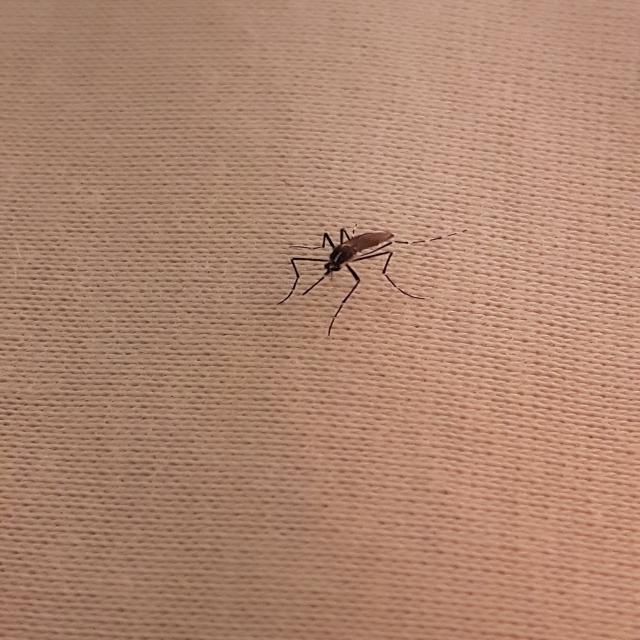albopictus: (260, 222, 464, 337)
